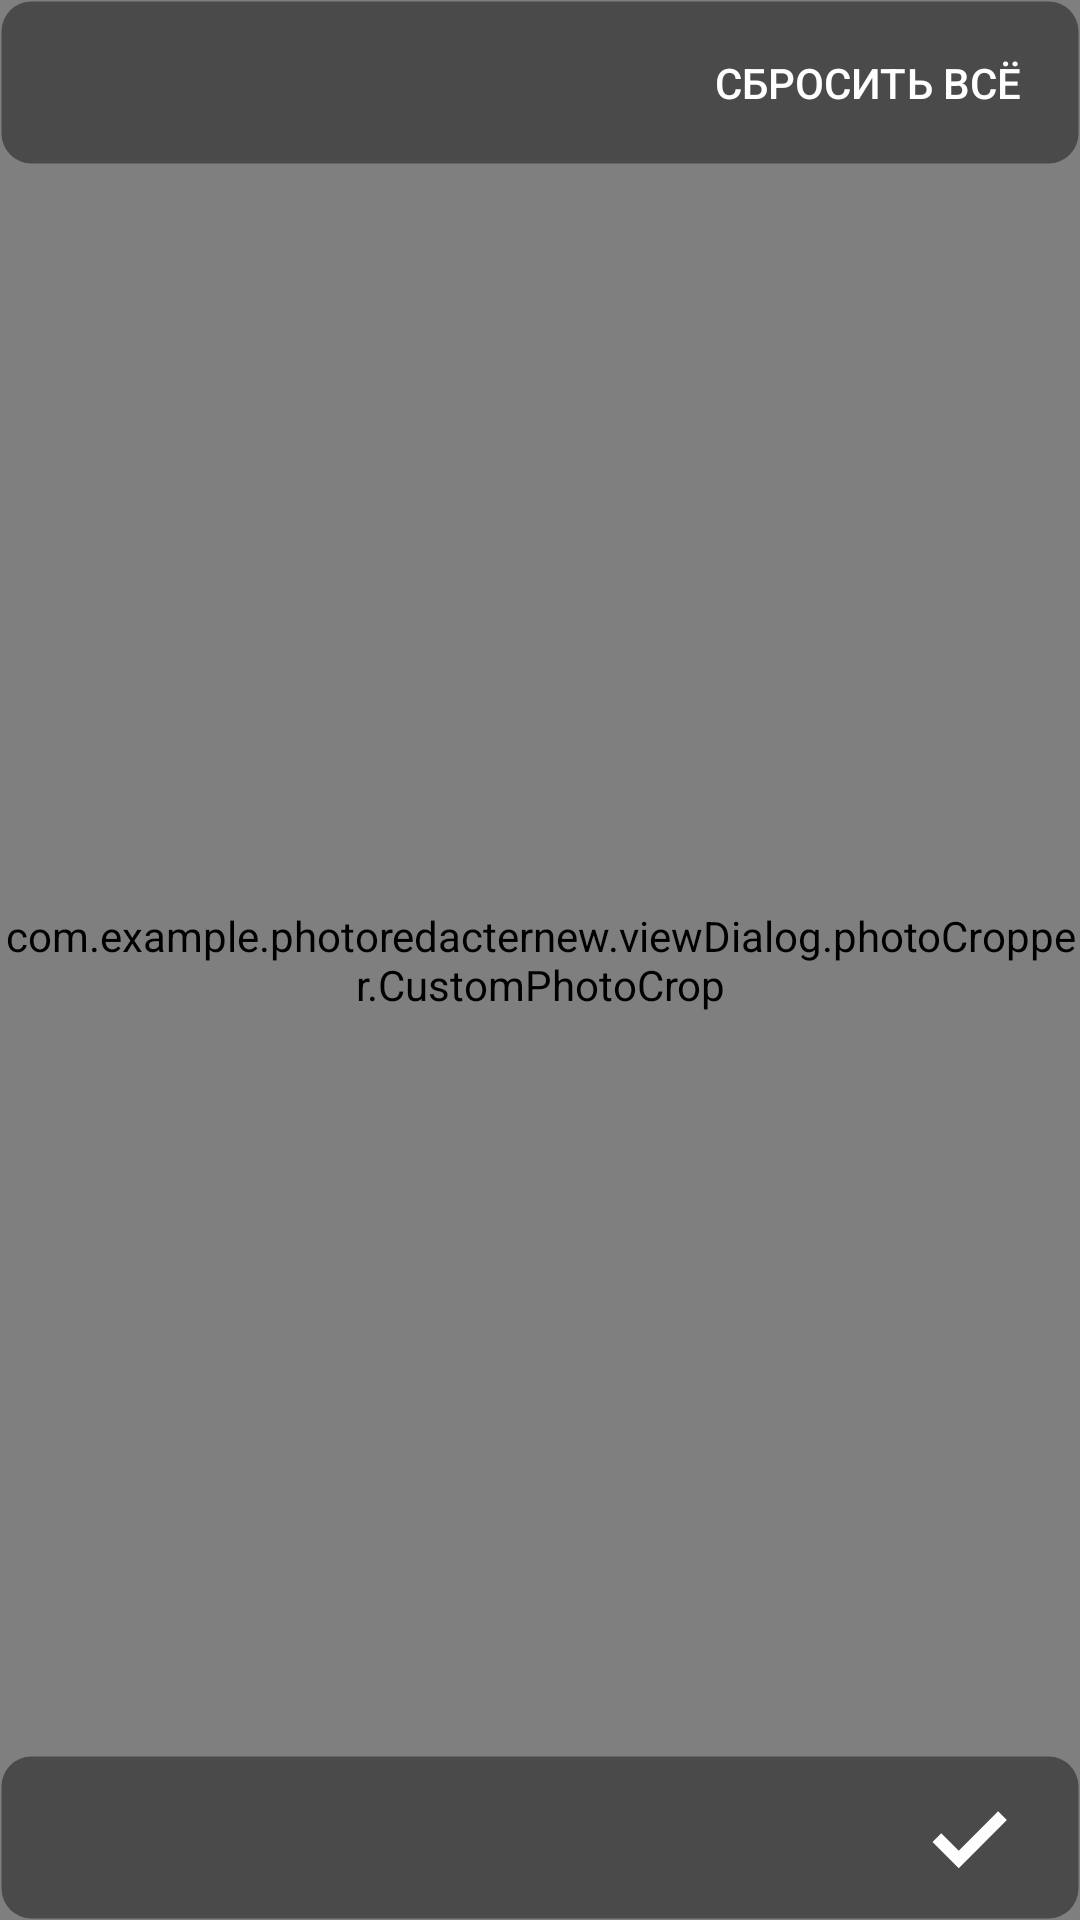

Icons on this 1080×1920 Android screen, each with the point to tap as (x,y):
check mark: (970,1839)
